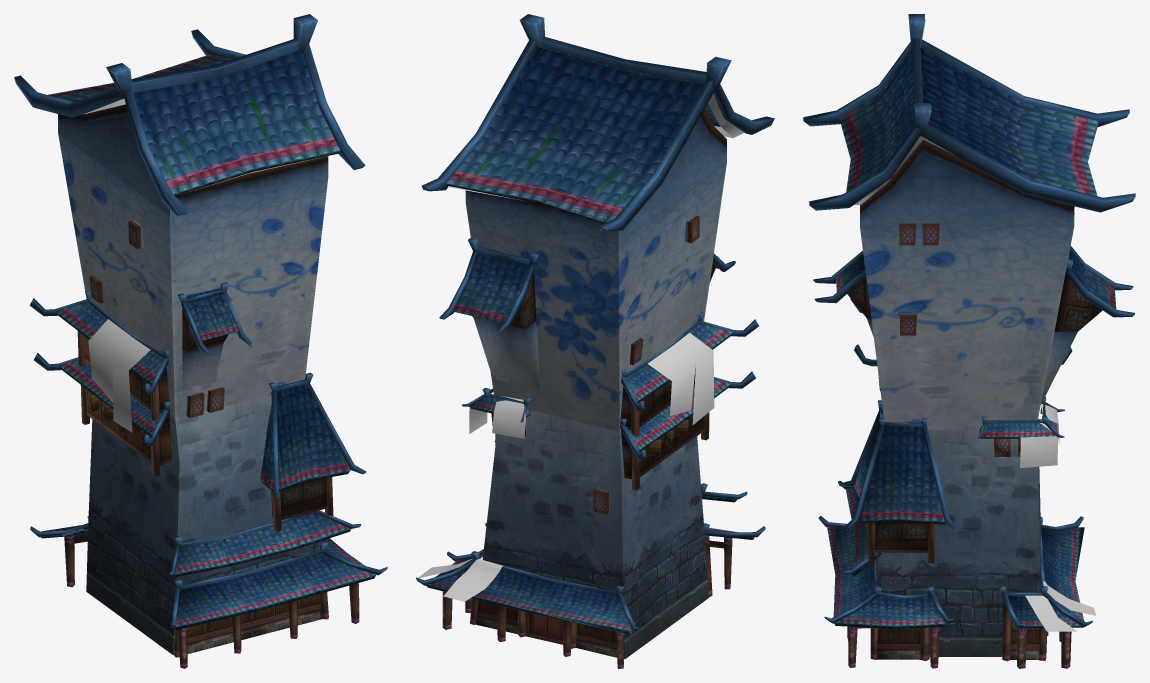
File: environment_building_qinghuacifangwu_01_a.FBX
3 renders of one model, left to right at view 1: azimuth 30°, elevation 25°; view 2: azimuth 150°, elevation 25°; view 3: azimuth 270°, elevation 25°, orthographic. The views are drawn at different scales.
Visible parts, largest first — view 1: environment_building_qinghuacifangwu_01_a3, environment_building_qinghuacifangwu_01_a7, environment_building_qinghuacifangwu_01_a0, environment_building_qinghuacifangwu_01_a1, environment_building_qinghuacifangwu_01_h0, environment_building_qinghuacifangwu_01_f0, environment_building_qinghuacifangwu_01_a4, environment_building_qinghuacifangwu_01_g0, environment_building_qinghuacifangwu_01_e4, environment_building_qinghuacifangwu_01_h3, environment_building_qinghuacifangwu_01_e0, environment_building_qinghuacifangwu_01_e3 (+11 smaller); view 2: environment_building_qinghuacifangwu_01_a3, environment_building_qinghuacifangwu_01_a7, environment_building_qinghuacifangwu_01_a0, environment_building_qinghuacifangwu_01_a1, environment_building_qinghuacifangwu_01_i1, environment_building_qinghuacifangwu_01_a4, environment_building_qinghuacifangwu_01_e4, environment_building_qinghuacifangwu_01_c0, environment_building_qinghuacifangwu_01_c3, environment_building_qinghuacifangwu_01_e0, environment_building_qinghuacifangwu_01_e3, environment_building_qinghuacifangwu_01_i6 (+11 smaller); view 3: environment_building_qinghuacifangwu_01_a3, environment_building_qinghuacifangwu_01_a7, environment_building_qinghuacifangwu_01_a0, environment_building_qinghuacifangwu_01_a4, environment_building_qinghuacifangwu_01_a1, environment_building_qinghuacifangwu_01_f0, environment_building_qinghuacifangwu_01_h0, environment_building_qinghuacifangwu_01_i1, environment_building_qinghuacifangwu_01_f1, environment_building_qinghuacifangwu_01_f2, environment_building_qinghuacifangwu_01_c2, environment_building_qinghuacifangwu_01_d1 (+17 smaller).
Part boxes in pixels (box(x1,y1,x2,y2)): environment_building_qinghuacifangwu_01_a3: box(58, 104, 328, 417); environment_building_qinghuacifangwu_01_a7: box(86, 395, 318, 654); environment_building_qinghuacifangwu_01_a0: box(48, 51, 340, 340); environment_building_qinghuacifangwu_01_a1: box(14, 14, 365, 355); environment_building_qinghuacifangwu_01_h0: box(175, 538, 375, 630); environment_building_qinghuacifangwu_01_f0: box(260, 378, 350, 491); environment_building_qinghuacifangwu_01_a4: box(58, 113, 224, 417); environment_building_qinghuacifangwu_01_g0: box(173, 513, 350, 577); environment_building_qinghuacifangwu_01_e4: box(88, 319, 150, 432); environment_building_qinghuacifangwu_01_h3: box(187, 572, 322, 653); environment_building_qinghuacifangwu_01_e0: box(55, 302, 167, 436); environment_building_qinghuacifangwu_01_e3: box(83, 335, 171, 464); environment_building_qinghuacifangwu_01_a3: box(465, 110, 726, 431); environment_building_qinghuacifangwu_01_a7: box(482, 410, 708, 658); environment_building_qinghuacifangwu_01_a0: box(446, 46, 720, 268); environment_building_qinghuacifangwu_01_a1: box(421, 14, 774, 271); environment_building_qinghuacifangwu_01_i1: box(426, 553, 632, 634); environment_building_qinghuacifangwu_01_a4: box(465, 118, 726, 514); environment_building_qinghuacifangwu_01_e4: box(647, 332, 714, 424); environment_building_qinghuacifangwu_01_c0: box(452, 253, 529, 322); environment_building_qinghuacifangwu_01_c3: box(473, 317, 540, 388); environment_building_qinghuacifangwu_01_e0: box(626, 323, 732, 451); environment_building_qinghuacifangwu_01_e3: box(620, 364, 704, 479); environment_building_qinghuacifangwu_01_i6: box(475, 600, 617, 657); environment_building_qinghuacifangwu_01_a3: box(860, 140, 1074, 429); environment_building_qinghuacifangwu_01_a7: box(876, 412, 1040, 656); environment_building_qinghuacifangwu_01_a0: box(836, 48, 1098, 291); environment_building_qinghuacifangwu_01_a4: box(860, 144, 1074, 391); environment_building_qinghuacifangwu_01_a1: box(803, 14, 1135, 303); environment_building_qinghuacifangwu_01_f0: box(854, 407, 944, 523); environment_building_qinghuacifangwu_01_h0: box(827, 526, 946, 628); environment_building_qinghuacifangwu_01_i1: box(1008, 527, 1084, 627); environment_building_qinghuacifangwu_01_f1: box(839, 400, 956, 528); environment_building_qinghuacifangwu_01_f2: box(868, 521, 928, 552); environment_building_qinghuacifangwu_01_c2: box(1054, 273, 1102, 331); environment_building_qinghuacifangwu_01_d1: box(1020, 404, 1059, 468).
Size of the model in its own units: 230 by 535 by 291.
